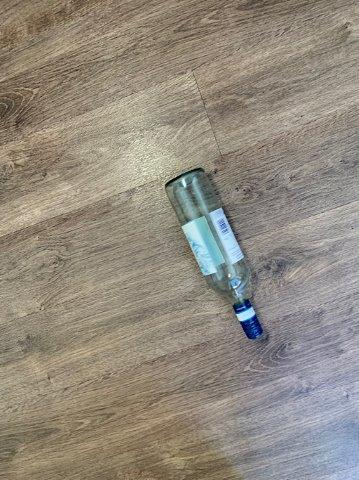botolkaca: (166, 168, 263, 338)
